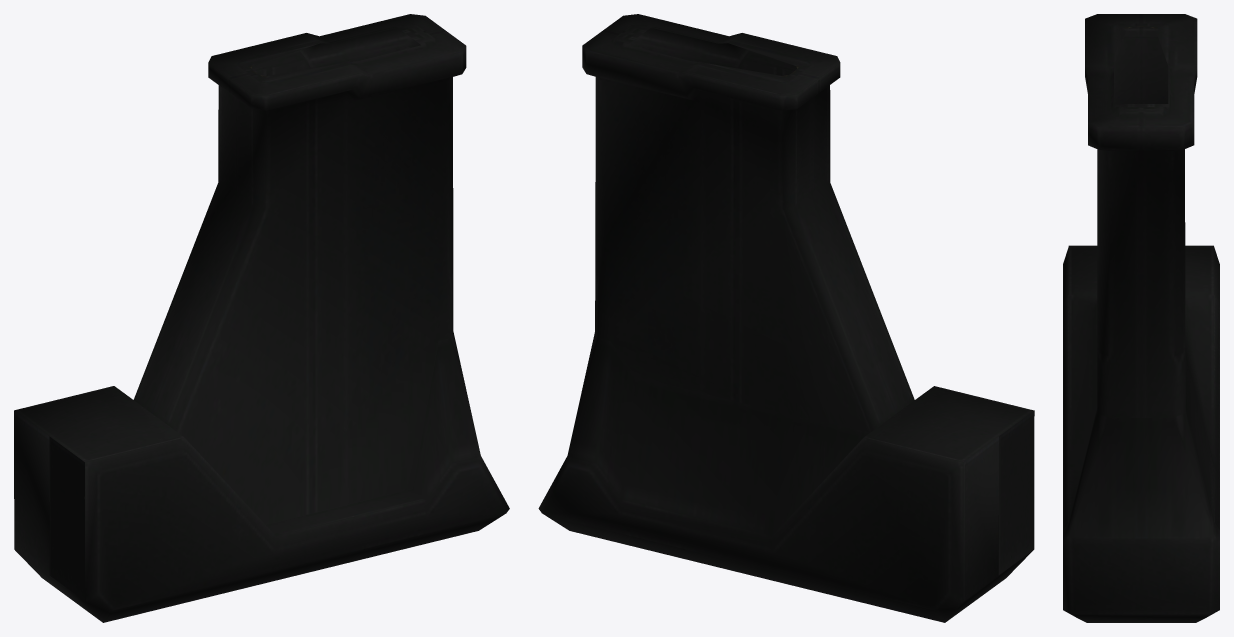
The model's file is XBR55_Magazine.fbx.
3 views of the same model, side by side, from view 1: azimuth 30°, elevation 25°; view 2: azimuth 150°, elevation 25°; view 3: azimuth 270°, elevation 25° (orthographic). The views are drawn at different scales.
Visible parts, largest first — view 1: Magazine1; view 2: Magazine1; view 3: Magazine1.
Part boxes in pixels (left/top/right/bottom): Magazine1: left=14, top=14, right=509, bottom=622; Magazine1: left=538, top=14, right=1034, bottom=622; Magazine1: left=1063, top=14, right=1219, bottom=622.
Bounding box in the file's own units: 13.23 × 14.37 × 4.12.
Materials: 1 (1 with a texture image).
